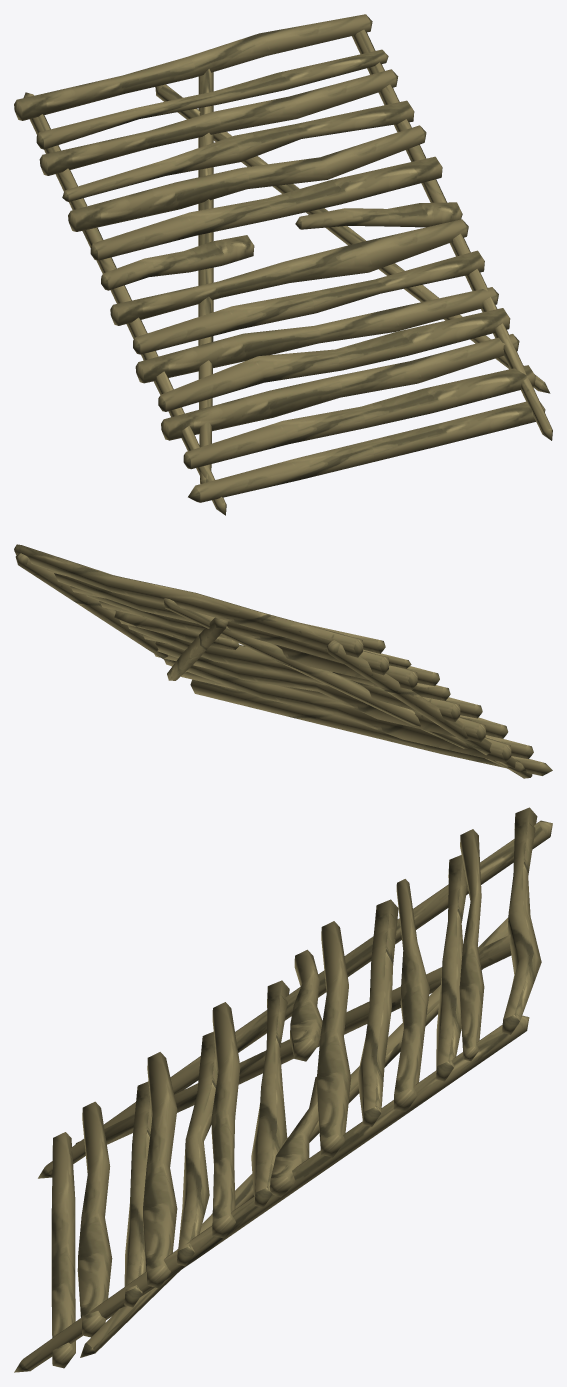
Rendered from Stairs.FBX.
3 views of the same model, one above another, from view 1: azimuth 30°, elevation 25°; view 2: azimuth 150°, elevation 25°; view 3: azimuth 270°, elevation 25° (orthographic). The views are drawn at different scales.
Parts seen in each view (by area): view 1: Stairs; view 2: Stairs; view 3: Stairs.
Part boxes in pixels (x1,y1,x2,y2): Stairs: (14,14,552,515); Stairs: (14,544,552,778); Stairs: (14,807,552,1372).
Bounding box in the file's own units: 6.59 × 4.87 × 6.46.
Materials: 1 (1 with a texture image).
